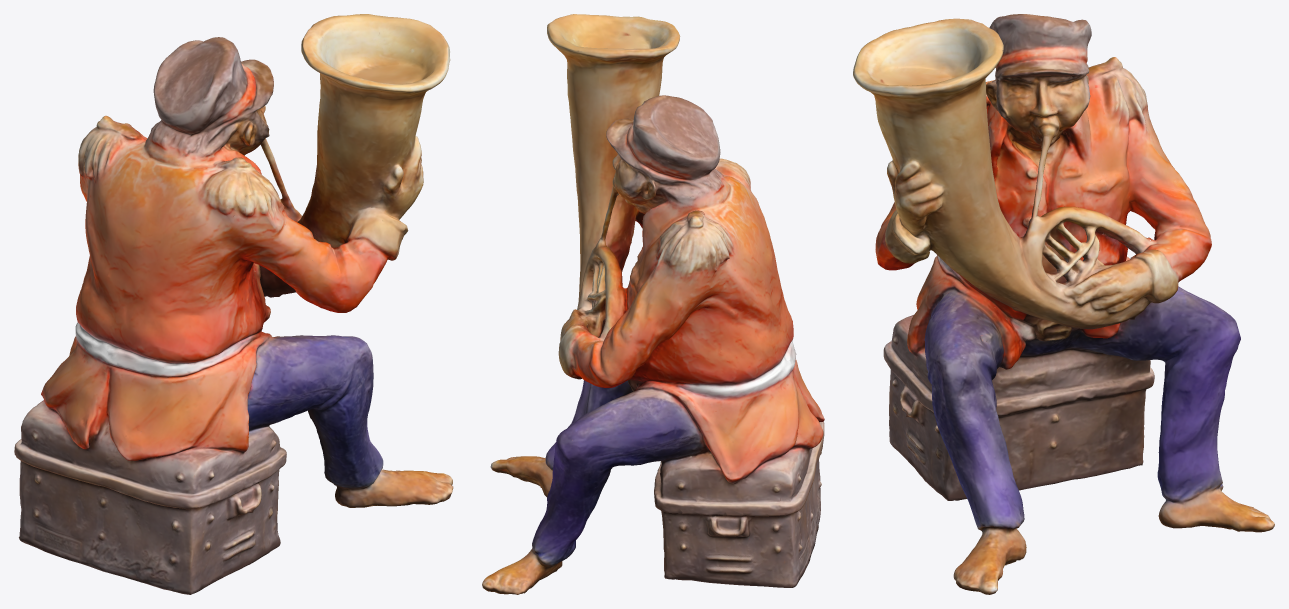
The model's file is khanna-shyam-pratap-bhompu-walae.glb.
The picture shows the model from 3 angles, left to right: view 1: azimuth 30°, elevation 25°; view 2: azimuth 150°, elevation 25°; view 3: azimuth 270°, elevation 25°; orthographic projection. The views are drawn at different scales.
Parts seen in each view (by area): view 1: Mesh_003; view 2: Mesh_003; view 3: Mesh_003.
Part boxes in pixels (<box>): Mesh_003: <box>14,14,453,594</box>; Mesh_003: <box>482,14,824,594</box>; Mesh_003: <box>853,14,1274,594</box>.
Size of the model in its own units: 24.28 by 29.67 by 22.64.
Materials: 1 (1 with a texture image).
